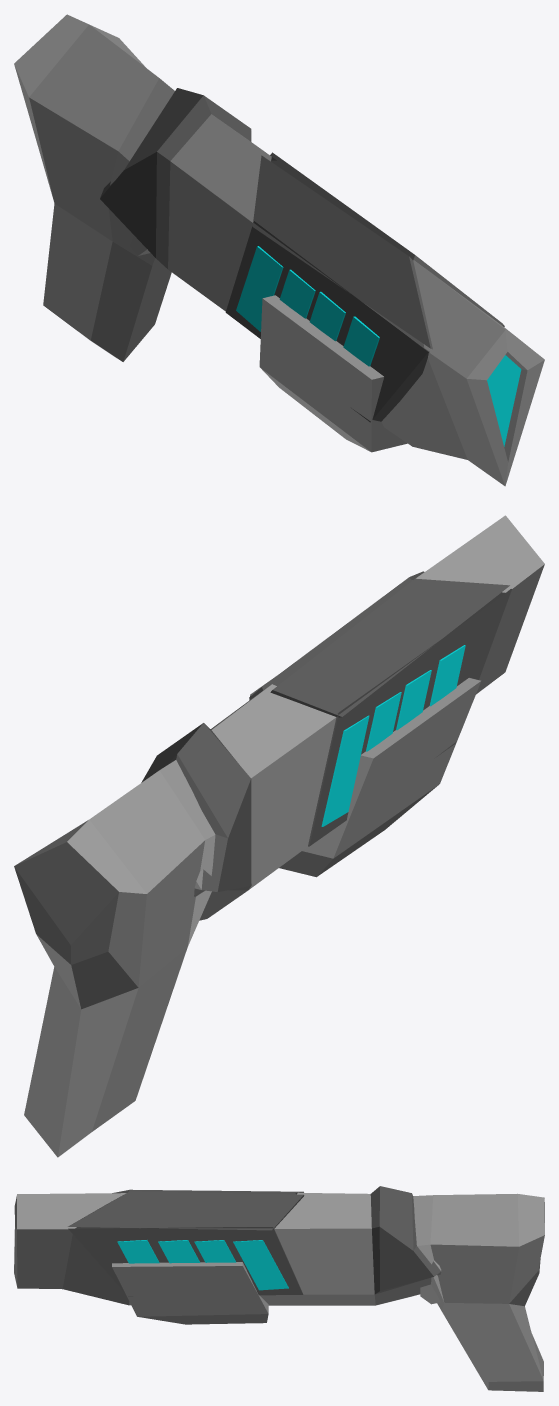
File: shotgun00222.fbx
3 views of the same model, one above another, from view 1: azimuth 30°, elevation 25°; view 2: azimuth 150°, elevation 25°; view 3: azimuth 270°, elevation 25° (orthographic). The views are drawn at different scales.
Visible parts, largest first — view 1: Cube.003, Cube.002, 큐브, 큐브.005, 큐브.008, 큐브.007, 큐브.006; view 2: Cube.003, Cube.002, 큐브, 큐브.005, 큐브.008, 큐브.007, 큐브.006; view 3: Cube.003, Cube.002, 큐브, 큐브.005, 큐브.008, 큐브.007, 큐브.006.
Boxes of the visible parts, x1=… form: Cube.003: x1=100, y1=88, x2=544, y2=486; Cube.002: x1=14, y1=14, x2=174, y2=361; 큐브: x1=259, y1=295, x2=407, y2=452; 큐브.005: x1=236, y1=246, x2=283, y2=331; 큐브.008: x1=343, y1=316, x2=379, y2=366; 큐브.007: x1=309, y1=291, x2=345, y2=341; 큐브.006: x1=279, y1=269, x2=315, y2=318; Cube.003: x1=141, y1=515, x2=544, y2=920; Cube.002: x1=14, y1=760, x2=215, y2=1157; 큐브: x1=279, y1=678, x2=481, y2=877; 큐브.005: x1=321, y1=715, x2=369, y2=826; 큐브.008: x1=429, y1=645, x2=465, y2=706; 큐브.007: x1=396, y1=670, x2=431, y2=730; 큐브.006: x1=366, y1=692, x2=401, y2=751; Cube.003: x1=14, y1=1186, x2=441, y2=1305; Cube.002: x1=413, y1=1193, x2=544, y2=1391; 큐브: x1=112, y1=1262, x2=268, y2=1324; 큐브.005: x1=233, y1=1240, x2=288, y2=1290; 큐브.008: x1=117, y1=1240, x2=159, y2=1263; 큐브.007: x1=158, y1=1240, x2=200, y2=1263; 큐브.006: x1=194, y1=1240, x2=236, y2=1262.
Bounding box in the file's own units: 367 × 1004 × 2378.
